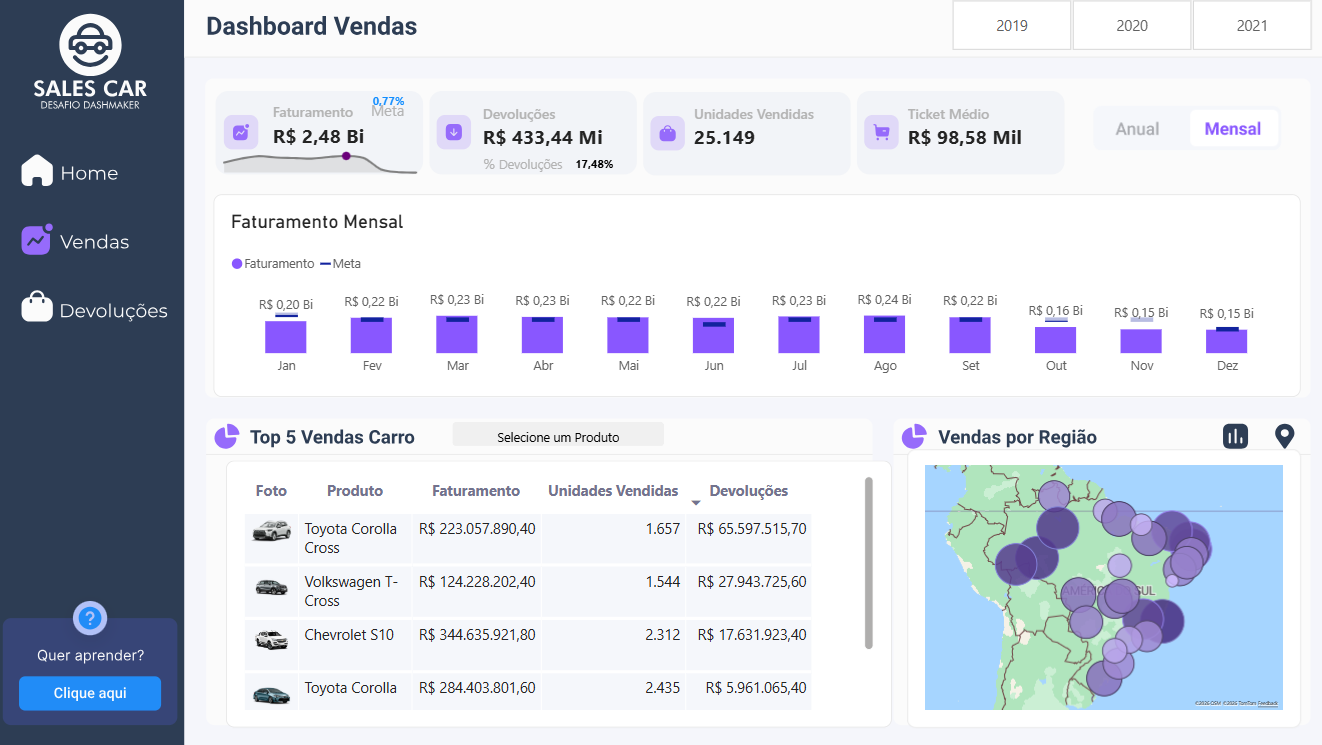

Layout of this report page (visuals, bound fields, positions):
{"tool":"powerbi","page":{"name":"Vendas","canvas":[1280,720],"ordinal":1},"visuals":[{"type":"cardVisual","fields":{"Data":["Medidas.Faturamento"]},"box":[249.1,50.9,161.6,145.7],"z":0},{"type":"textbox","box":[359.2,98.1,50.5,26],"z":1000},{"type":"cardVisual","fields":{"Data":["Medidas.% Dif Meta"]},"box":[344.8,83.7,64.9,28.9],"z":2000},{"type":"PBI_CV_25997FEB_F466_44FA_B562_AC4063283C4C","fields":{"axis":["dCalendario.MesAbre"],"measure":["Medidas.Faturamento"]},"box":[189.4,124.6,246.7,63.5],"z":3000},{"type":"cardVisual","fields":{"Data":["Medidas.Devoluções"]},"box":[450.6,51.5,229.4,145.7],"z":4000},{"type":"cardVisual","fields":{"Data":["Medidas.% Devoluções"]},"box":[539.1,143.8,79.7,29.7],"z":5000},{"type":"textbox","box":[467.5,148.6,98.1,21.6],"z":6000},{"type":"cardVisual","fields":{"Data":["Medidas.Unidades Vendidas"]},"box":[653.6,51.9,229.4,145.7],"z":7000},{"type":"cardVisual","fields":{"Data":["Medidas.Ticket Médio"]},"box":[858.1,51.5,229.4,145.7],"z":8000},{"type":"tableEx","fields":{"Values":["d_produtos.ImagemProduto","d_produtos.NomeProduto","Medidas.Faturamento","Medidas.Unidades Vendidas","Medidas.Devoluções"]},"box":[220.2,443.8,638.2,256.2],"z":9000},{"type":"azureMap","fields":{"Category":["d_clientes.Cidade"],"Size":["Medidas.Faturamento"]},"box":[873.4,433.2,377.3,266.9],"z":10000},{"type":"actionButton","title":"btGrafico","box":[1159.2,401.8,58.4,31.7],"z":12000},{"type":"actionButton","title":"btmapa","box":[1203.1,401.8,58.4,31.7],"z":13000},{"type":"lineClusteredColumnComboChart","title":"Faturamento Mensal","fields":{"Category":["dCalendario.MesAbre"],"Y":["Medidas.Faturamento"],"Y2":["Medidas.Meta"]},"box":[208.5,188.2,1042.7,194.2],"z":14000},{"type":"slicer","fields":{"Values":["dCalendario.Ano"]},"box":[896,0,383.8,51.9],"z":17000},{"type":"image","title":"Bt Mensal","box":[1052.8,99.7,180,50],"z":19000},{"type":"actionButton","title":"Botão MensalB","box":[1150.6,112.3,66.4,33.7],"z":20000},{"type":"actionButton","title":"Botão AnualB","box":[1061.8,112.3,66.4,33.7],"z":21000},{"type":"actionButton","box":[437.1,406.7,203.4,23.6],"z":22000},{"type":"actionButton","box":[17.9,144.6,128.6,50],"z":23000},{"type":"actionButton","box":[17.9,267.9,151.8,67.9],"z":24000}]}

Visuals, with their boxes on the page's 1280x720 design canvas (x1, y1, x2, y2). These are canvas units, not pixel positions in the 1322x745 screenshot, which may show the page scaled, cropped or inside an application window:
cardVisual - Medidas.Faturamento: (left=249, top=51, right=411, bottom=197)
textbox: (left=359, top=98, right=410, bottom=124)
cardVisual - Medidas.% Dif Meta: (left=345, top=84, right=410, bottom=113)
PBI_CV_25997FEB_F466_44FA_B562_AC4063283C4C - dCalendario.MesAbre x Medidas.Faturamento: (left=189, top=125, right=436, bottom=188)
cardVisual - Medidas.Devoluções: (left=451, top=52, right=680, bottom=197)
cardVisual - Medidas.% Devoluções: (left=539, top=144, right=619, bottom=174)
textbox: (left=468, top=149, right=566, bottom=170)
cardVisual - Medidas.Unidades Vendidas: (left=654, top=52, right=883, bottom=198)
cardVisual - Medidas.Ticket Médio: (left=858, top=52, right=1088, bottom=197)
tableEx - d_produtos.ImagemProduto x d_produtos.NomeProduto: (left=220, top=444, right=858, bottom=700)
azureMap - d_clientes.Cidade x Medidas.Faturamento: (left=873, top=433, right=1251, bottom=700)
"btGrafico" actionButton: (left=1159, top=402, right=1218, bottom=434)
"btmapa" actionButton: (left=1203, top=402, right=1262, bottom=434)
"Faturamento Mensal" lineClusteredColumnComboChart: (left=208, top=188, right=1251, bottom=382)
slicer - dCalendario.Ano: (left=896, top=0, right=1280, bottom=52)
"Bt Mensal" image: (left=1053, top=100, right=1233, bottom=150)
"Botão MensalB" actionButton: (left=1151, top=112, right=1217, bottom=146)
"Botão AnualB" actionButton: (left=1062, top=112, right=1128, bottom=146)
actionButton: (left=437, top=407, right=640, bottom=430)
actionButton: (left=18, top=145, right=146, bottom=195)
actionButton: (left=18, top=268, right=170, bottom=336)
